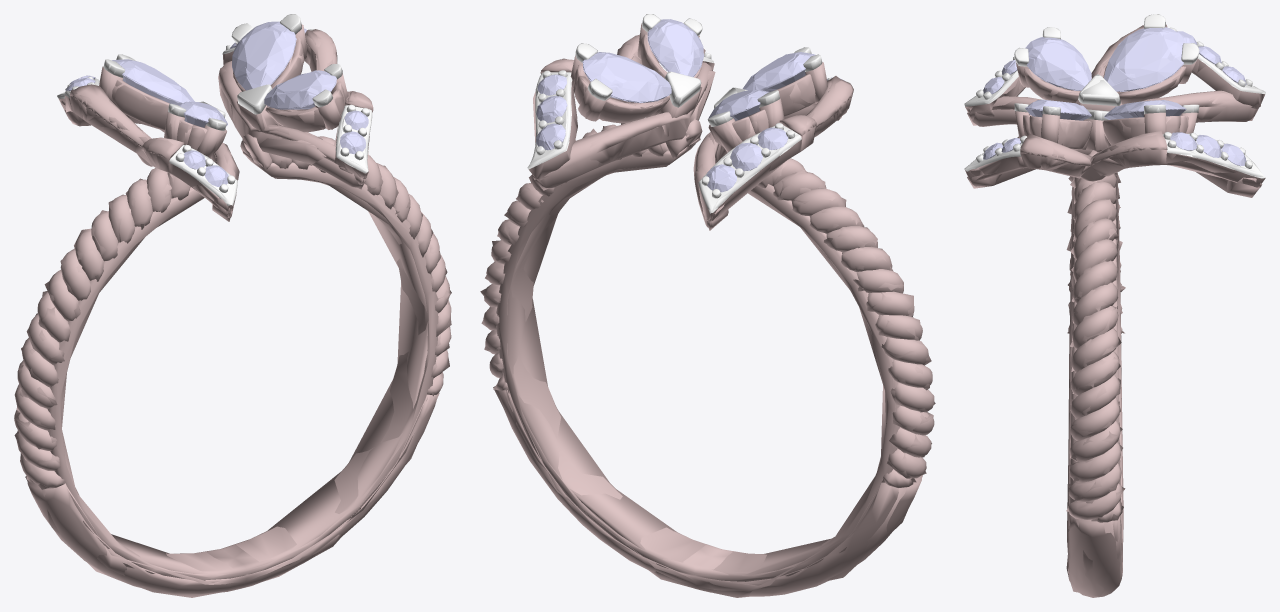
Rendered from DLR-D000683237.glb.
3 renders of one model, left to right at view 1: azimuth 30°, elevation 25°; view 2: azimuth 150°, elevation 25°; view 3: azimuth 270°, elevation 25°, orthographic. The views are drawn at different scales.
Visible parts, largest first — view 1: highPolyMesh, lowPolyMesh; view 2: highPolyMesh, lowPolyMesh; view 3: highPolyMesh, lowPolyMesh.
Boxes of the visible parts, <box> form: highPolyMesh: <box>14,14,451,594</box>; lowPolyMesh: <box>14,14,451,597</box>; highPolyMesh: <box>483,14,934,596</box>; lowPolyMesh: <box>480,14,935,597</box>; highPolyMesh: <box>964,14,1265,597</box>; lowPolyMesh: <box>964,14,1265,596</box>.
Size of the model in its own units: 0.0203 by 0.0238 by 0.0126.
